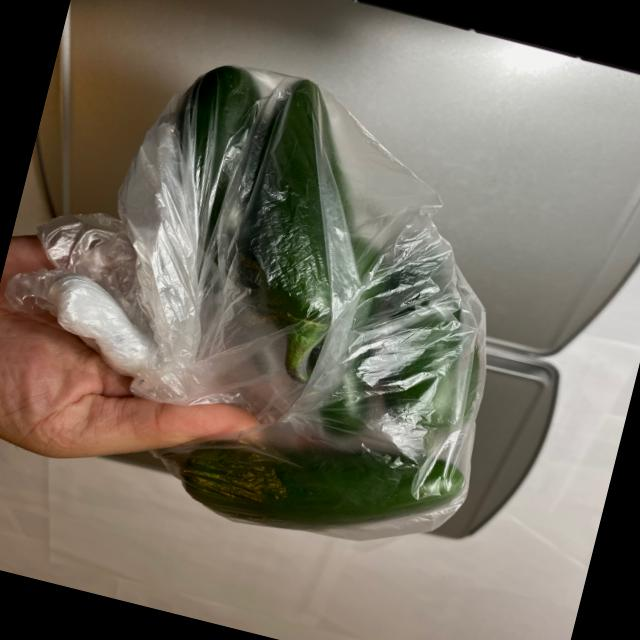chilli: (80, 44, 568, 576)
